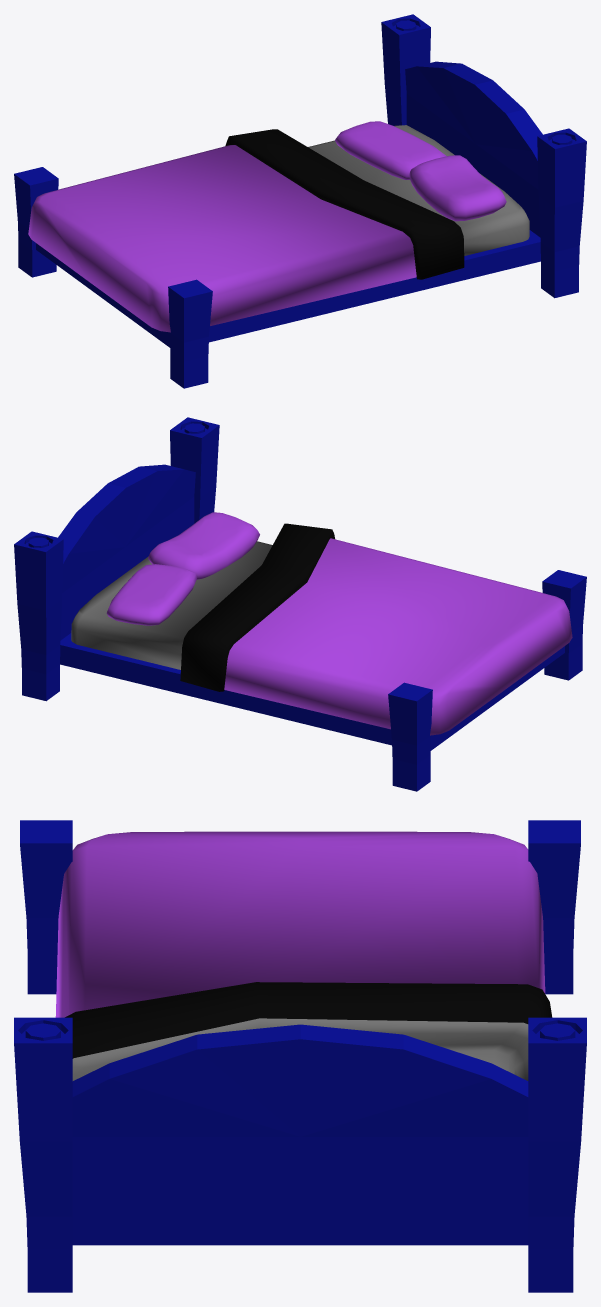
File: Bed.fbx
The picture shows the model from 3 angles, top to bottom: view 1: azimuth 30°, elevation 25°; view 2: azimuth 150°, elevation 25°; view 3: azimuth 270°, elevation 25°; orthographic projection. The views are drawn at different scales.
Parts seen in each view (by area): view 1: bed.001, Armature.001, Oreillier.003, Oreillier.002; view 2: bed.001, Armature.001, Oreillier.003, Oreillier.002; view 3: Armature.001, bed.001.
Boxes of the visible parts, left/top/right/bottom form: bed.001: left=28, top=125, right=529, bottom=332; Armature.001: left=14, top=14, right=586, bottom=388; Oreillier.003: left=409, top=155, right=506, bottom=221; Oreillier.002: left=335, top=121, right=446, bottom=179; bed.001: left=71, top=523, right=572, bottom=735; Armature.001: left=14, top=417, right=586, bottom=791; Oreillier.003: left=148, top=512, right=259, bottom=579; Oreillier.002: left=106, top=564, right=197, bottom=625; Armature.001: left=14, top=820, right=586, bottom=1292; bed.001: left=55, top=831, right=552, bottom=1080.
Size of the model in its own units: 127 by 262 by 356.
